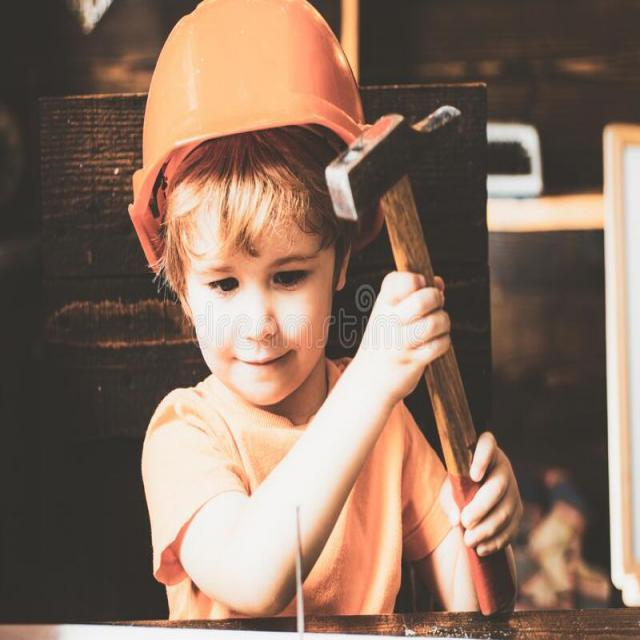hammer: (320, 94, 522, 621)
